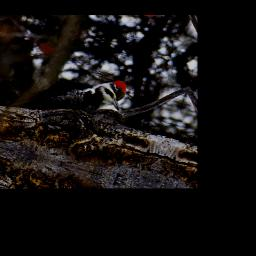Woodpecker: (21, 57, 133, 132)
